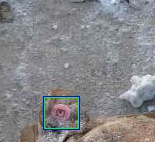text: (44, 97, 78, 128)
